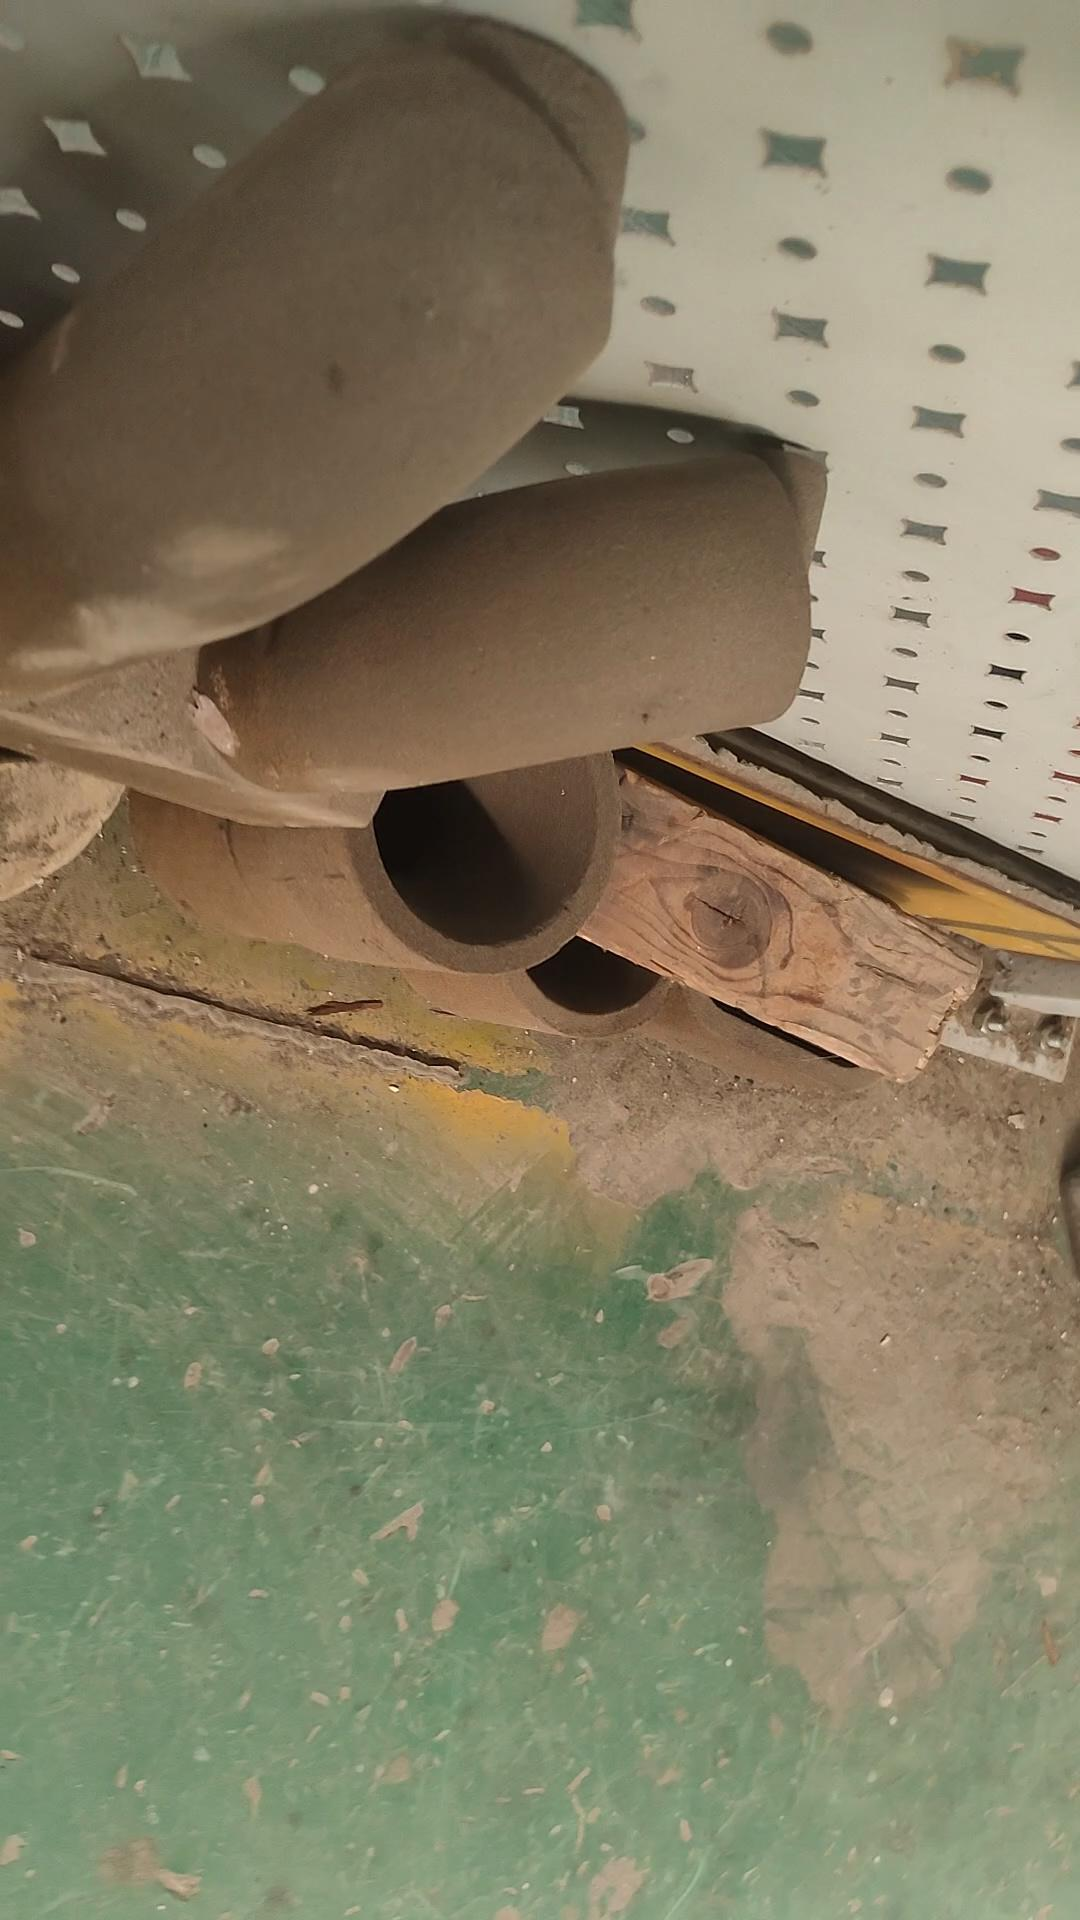pouring hole: (371, 696, 599, 945), (518, 861, 670, 1013)
